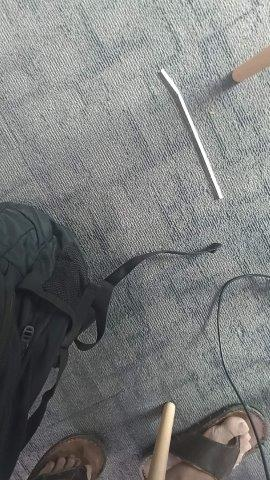sedotan: (160, 69, 223, 199)
